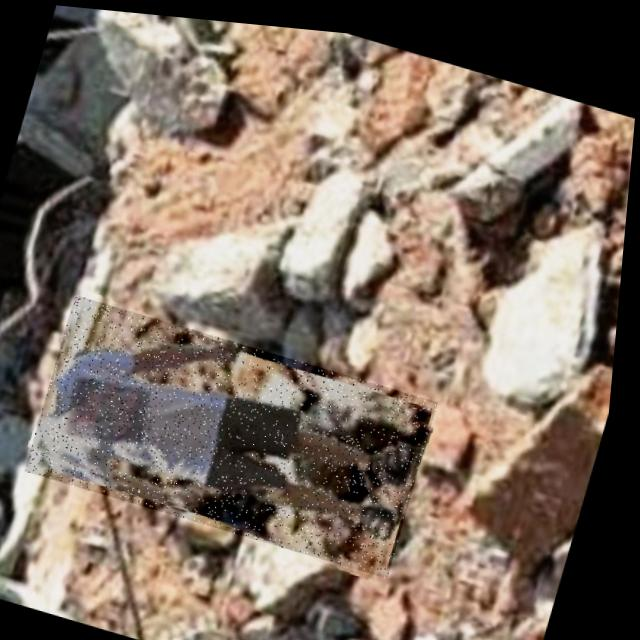Person in Rubble: (29, 290, 450, 571)
